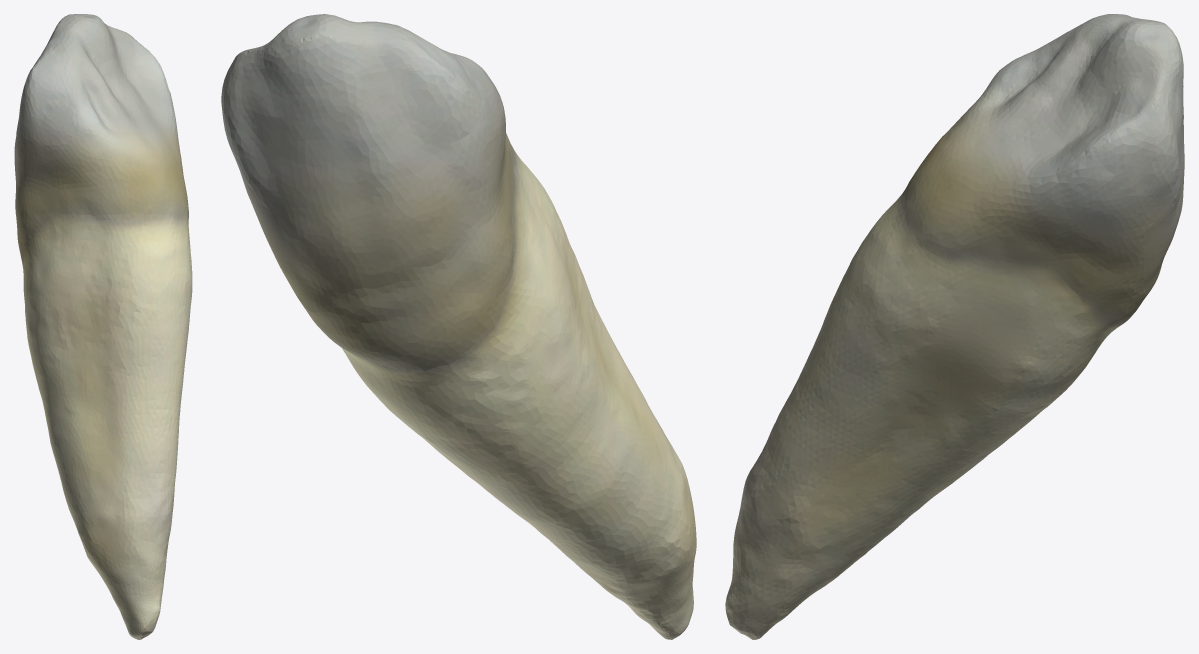
The picture shows the model from 3 angles, left to right: view 1: azimuth 30°, elevation 25°; view 2: azimuth 150°, elevation 25°; view 3: azimuth 270°, elevation 25°; orthographic projection. The views are drawn at different scales.
Visible parts, largest first — view 1: 3MFMeshParent_0; view 2: 3MFMeshParent_0; view 3: 3MFMeshParent_0.
Part boxes in pixels (left/top/right/bottom): 3MFMeshParent_0: left=14, top=14, right=192, bottom=639; 3MFMeshParent_0: left=221, top=14, right=696, bottom=639; 3MFMeshParent_0: left=725, top=14, right=1184, bottom=639.
Size of the model in its own units: 0.1846 by 0.4709 by 0.292.
Materials: 1 (1 with a texture image).
